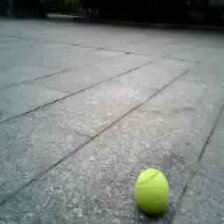tennis: (133, 169, 168, 212)
